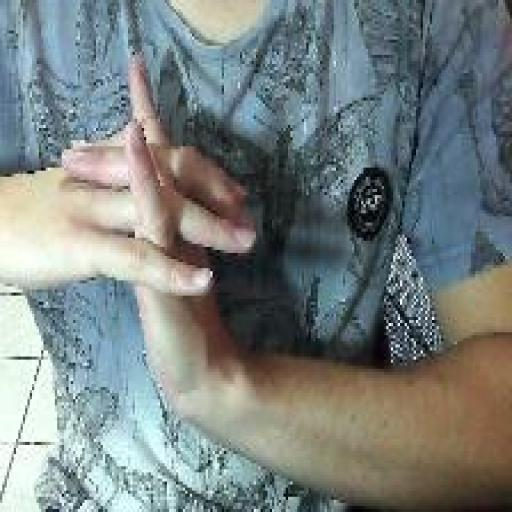Ushi -ox-: (57, 46, 261, 430)
